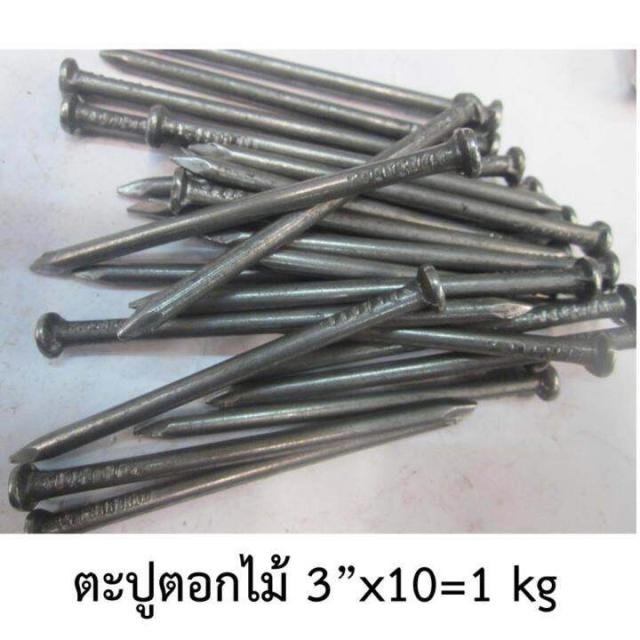3x10 nail: (0, 250, 472, 474), (25, 115, 499, 292)
